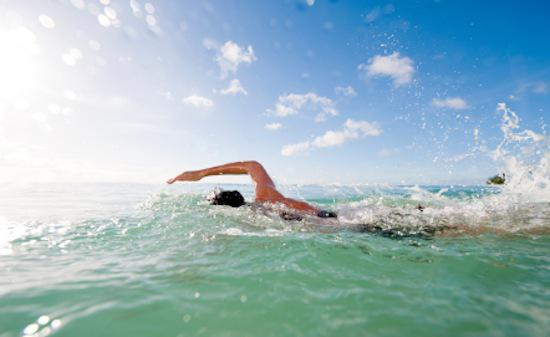swimmer: (166, 158, 383, 236)
